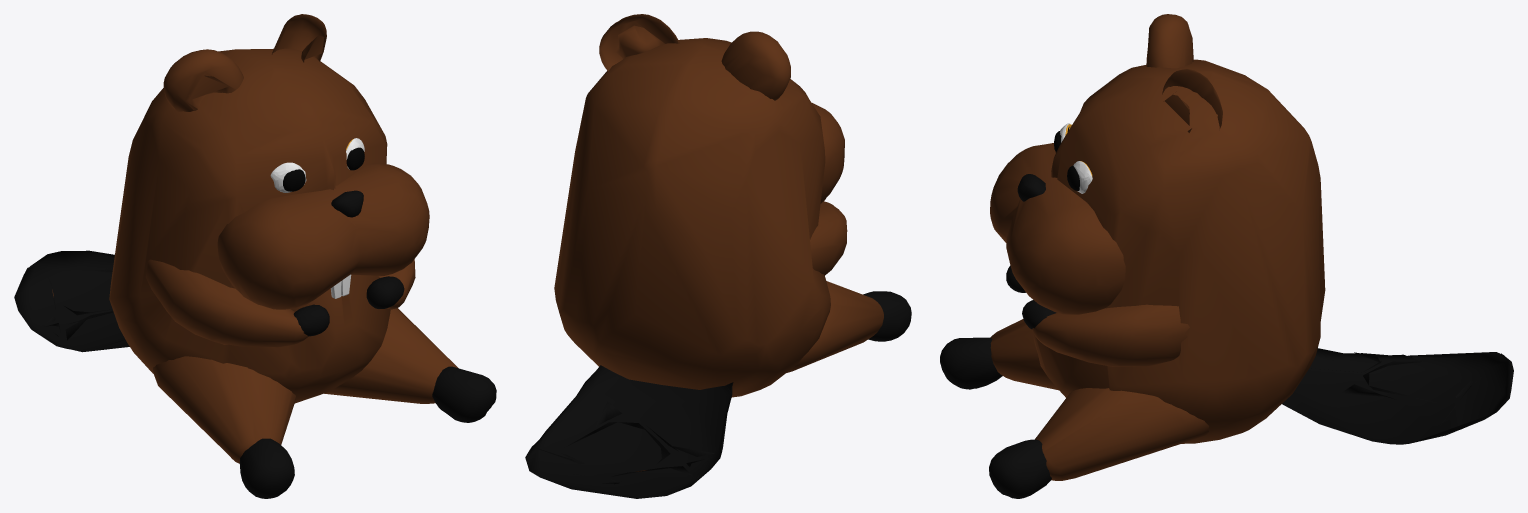
File: beaverplush.fbx
3 views of the same model, side by side, from view 1: azimuth 30°, elevation 25°; view 2: azimuth 150°, elevation 25°; view 3: azimuth 270°, elevation 25° (orthographic). The views are drawn at different scales.
Visible parts, largest first — view 1: eyes.001; view 2: eyes.001; view 3: eyes.001.
Boxes of the visible parts, bbox=[...] form: eyes.001: bbox=[14, 14, 496, 498]; eyes.001: bbox=[525, 14, 911, 498]; eyes.001: bbox=[940, 14, 1513, 498].
Bounding box in the file's own units: 0.099 × 0.1237 × 0.1668.
